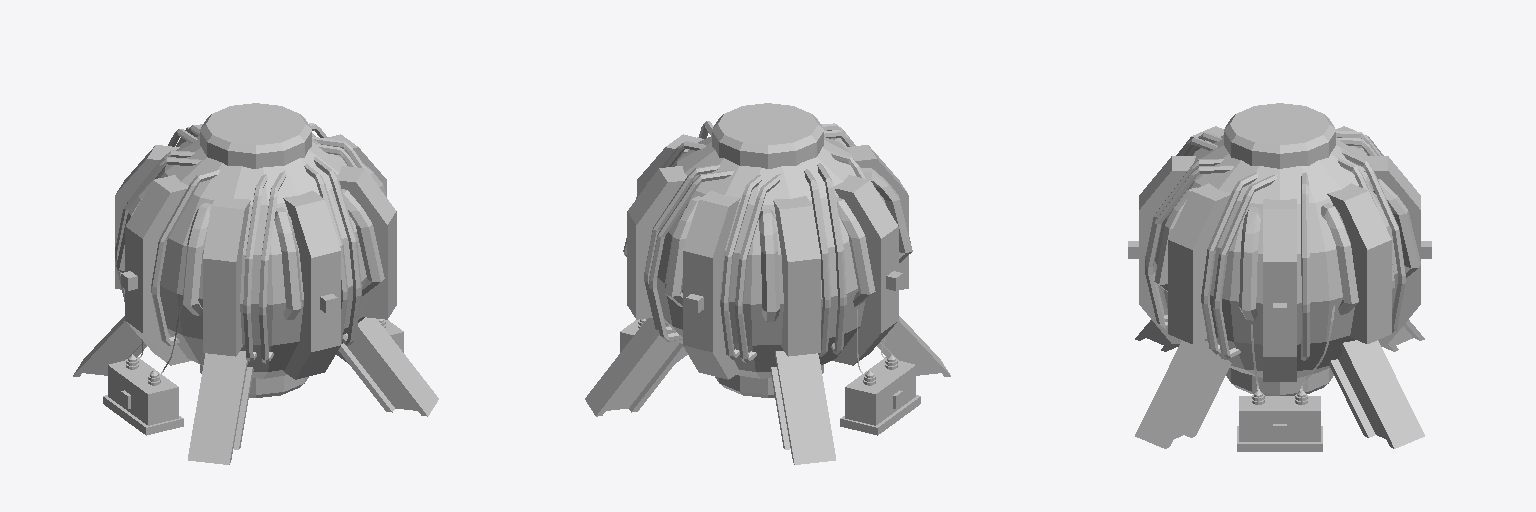
Rendered from watz supercompressor.obj.
3 views of the same model, side by side, from view 1: azimuth 30°, elevation 25°; view 2: azimuth 150°, elevation 25°; view 3: azimuth 270°, elevation 25° (orthographic).
Visible parts, largest first — view 1: Cube.003_Cube; view 2: Cube.003_Cube; view 3: Cube.003_Cube.
Boxes of the visible parts, x1,y1,x2,y2 form: Cube.003_Cube: [73, 103, 438, 464]; Cube.003_Cube: [585, 103, 950, 464]; Cube.003_Cube: [1128, 103, 1431, 451].
Bounding box in the file's own units: 7 × 6.7 × 7.